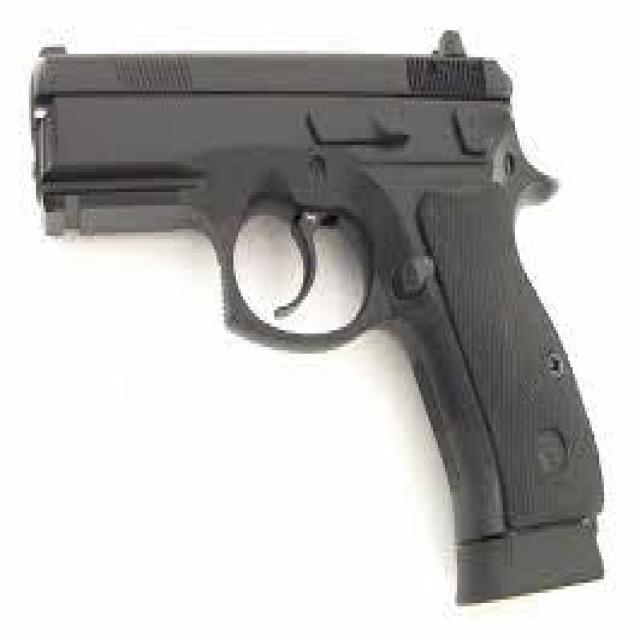gun: (29, 30, 604, 610)
